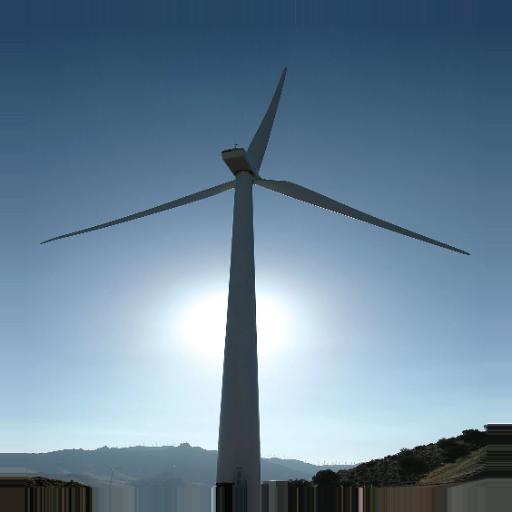wind turbine: (37, 61, 472, 473)
